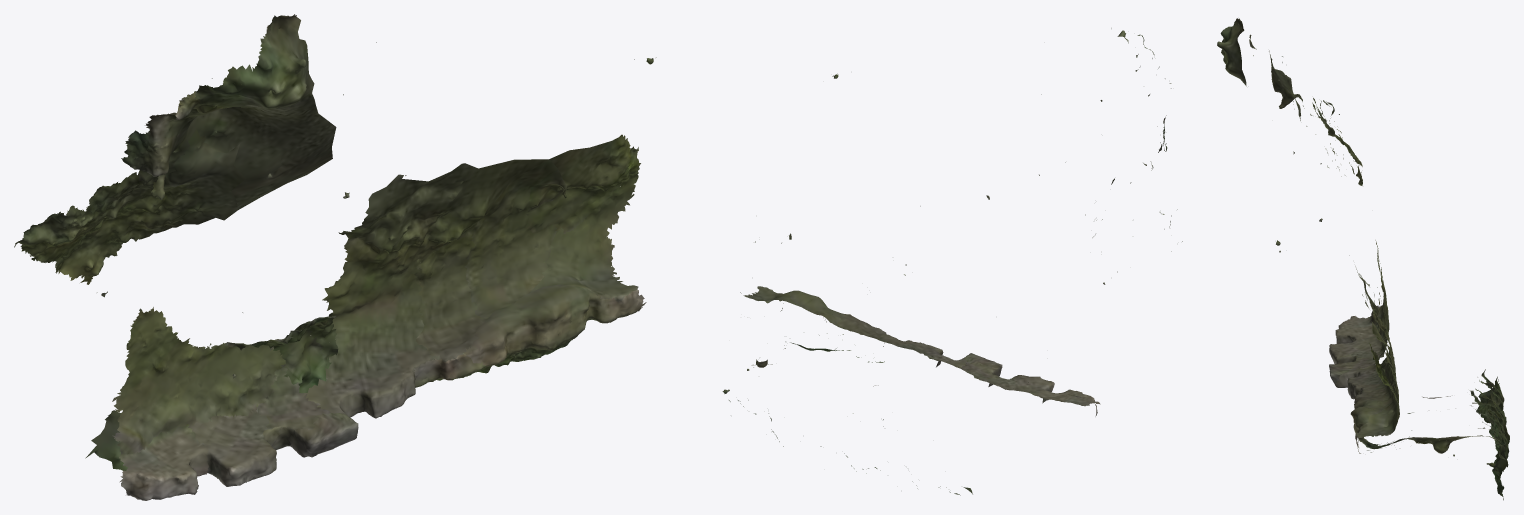
The picture shows the model from 3 angles, left to right: view 1: azimuth 30°, elevation 25°; view 2: azimuth 150°, elevation 25°; view 3: azimuth 270°, elevation 25°; orthographic projection. The views are drawn at different scales.
Bounding box in the file's own units: 22.64 × 20.12 × 13.82.
1 material, 1 textured.
